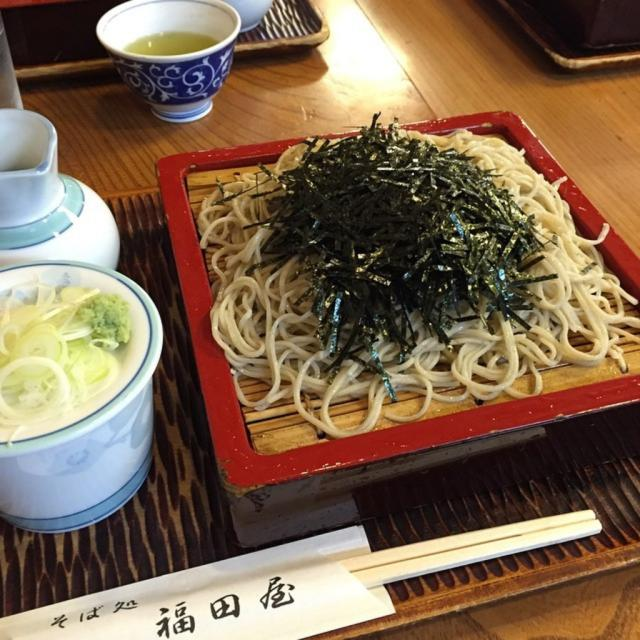Tea: (117, 28, 220, 55)
